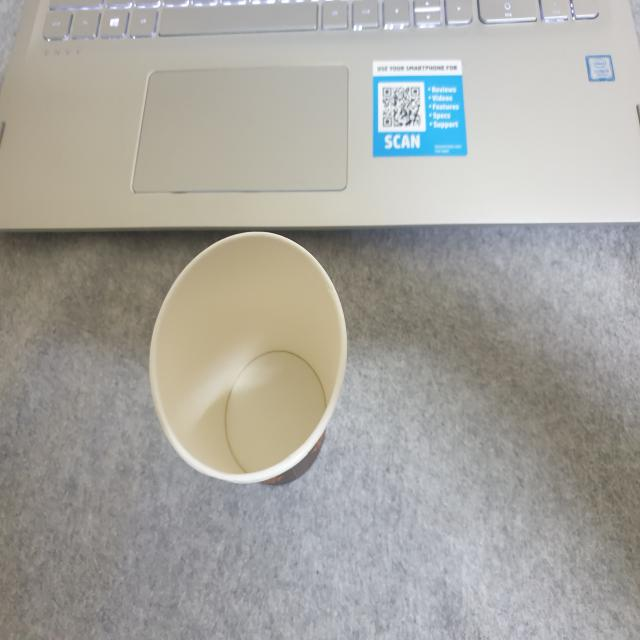cups: (139, 226, 352, 504)
